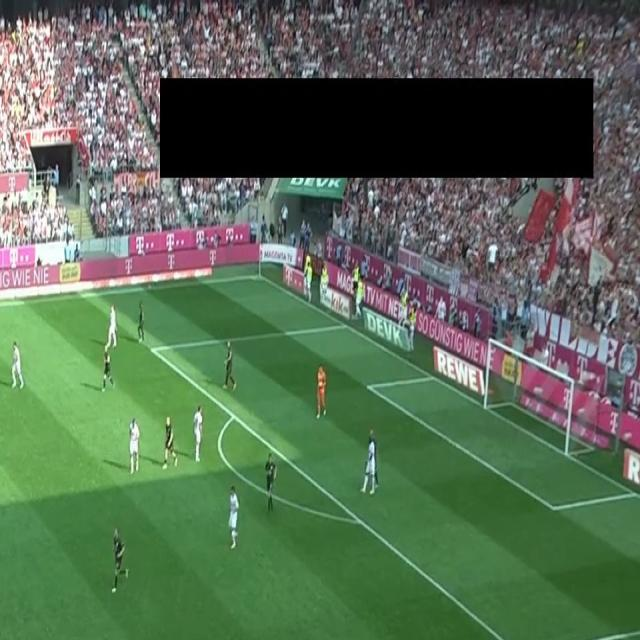ball: (318, 380, 323, 389)
